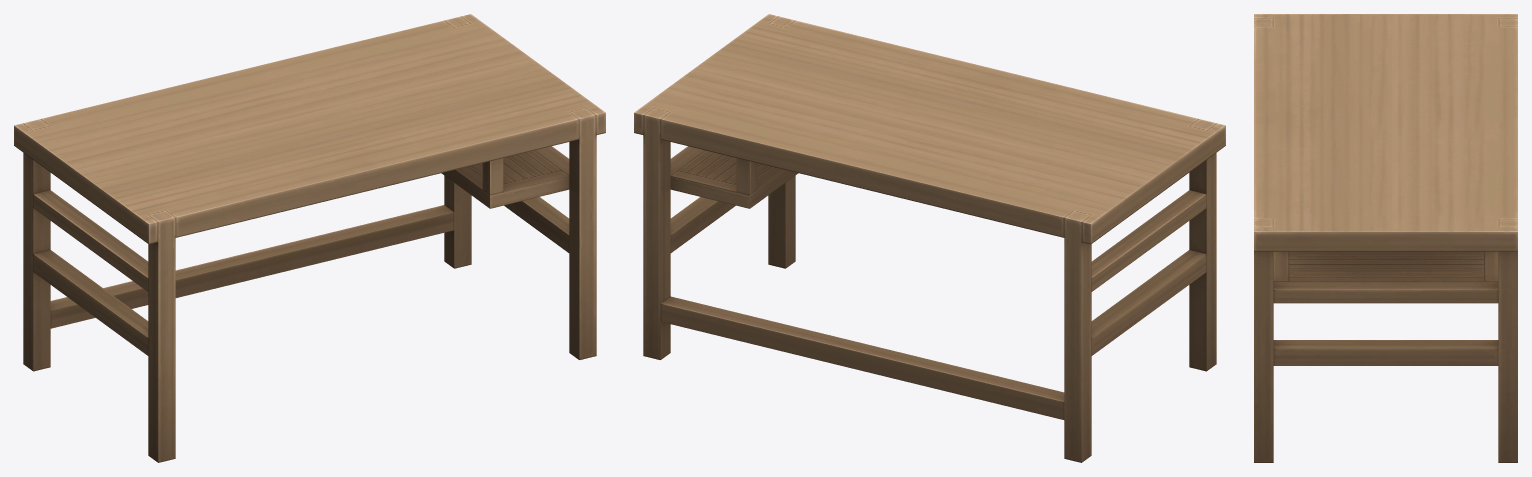
File: escritorio.fbx
The picture shows the model from 3 angles, left to right: view 1: azimuth 30°, elevation 25°; view 2: azimuth 150°, elevation 25°; view 3: azimuth 270°, elevation 25°; orthographic projection. The views are drawn at different scales.
Parts seen in each view (by area): view 1: escritorio; view 2: escritorio; view 3: escritorio.
Part boxes in pixels (bbox=[...]): escritorio: bbox=[14, 14, 605, 462]; escritorio: bbox=[634, 14, 1225, 462]; escritorio: bbox=[1254, 14, 1517, 462].
Bounding box in the file's own units: 159 × 80 × 81.19.
Materials: 1 (1 with a texture image).
